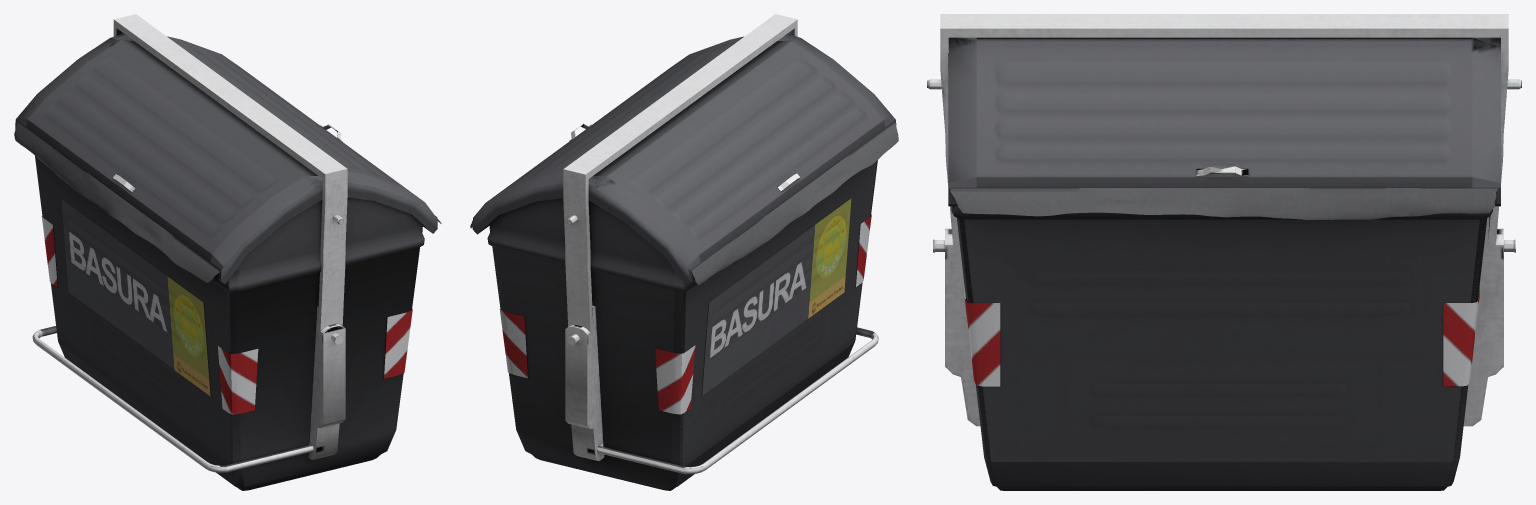
The picture shows the model from 3 angles, left to right: view 1: azimuth 30°, elevation 25°; view 2: azimuth 150°, elevation 25°; view 3: azimuth 270°, elevation 25°; orthographic projection. The views are drawn at different scales.
Parts seen in each view (by area): view 1: dumpster, door1, door2, handle; view 2: dumpster, door1, door2, handle; view 3: dumpster, door2.
Part boxes in pixels (bbox=[...]): dumpster: bbox=[35, 14, 424, 490]; door1: bbox=[14, 33, 322, 284]; door2: bbox=[167, 36, 441, 233]; handle: bbox=[32, 326, 313, 472]; dumpster: bbox=[487, 14, 877, 490]; door1: bbox=[588, 33, 898, 284]; door2: bbox=[470, 36, 743, 234]; handle: bbox=[596, 327, 878, 474]; dumpster: bbox=[927, 14, 1521, 490]; door2: bbox=[948, 37, 1500, 219].
Size of the model in its own units: 85.55 by 108 by 136.
Materials: 1 (1 with a texture image).
